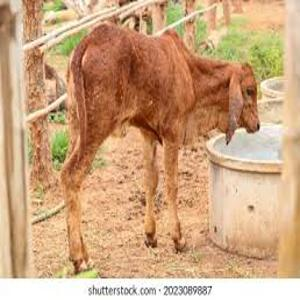lumpy skin diesease: (58, 20, 260, 273)
